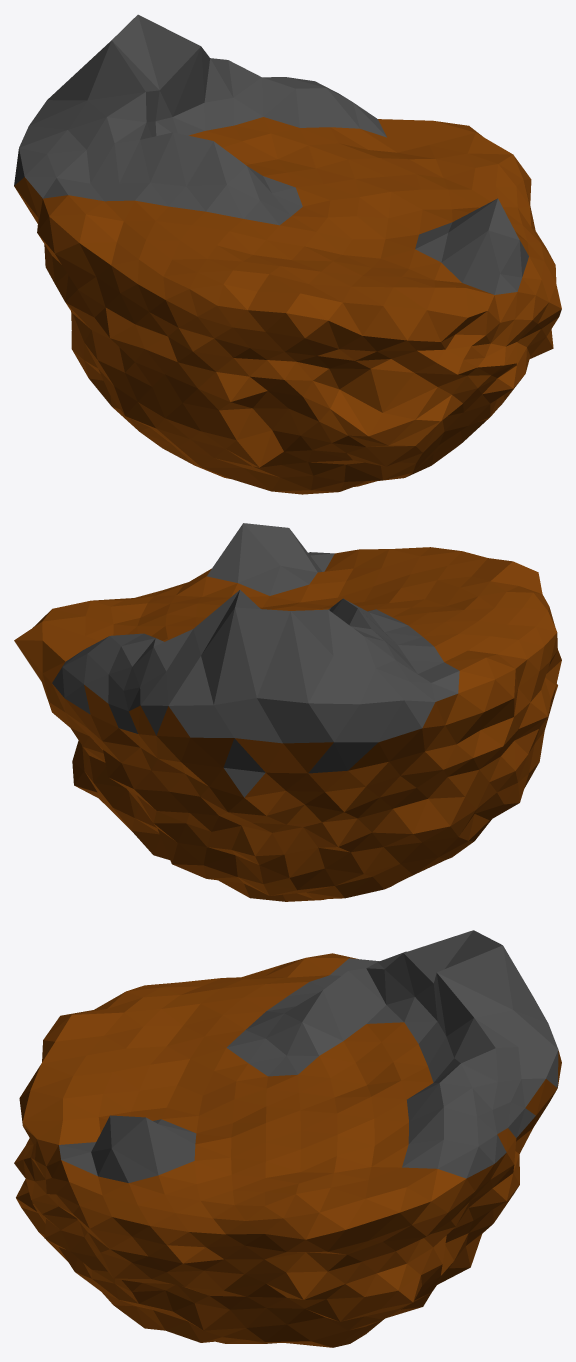
Rendered from island.fbx.
The picture shows the model from 3 angles, top to bottom: view 1: azimuth 30°, elevation 25°; view 2: azimuth 150°, elevation 25°; view 3: azimuth 270°, elevation 25°; orthographic projection. The views are drawn at different scales.
Parts seen in each view (by area): view 1: Icosphere; view 2: Icosphere; view 3: Icosphere.
Boxes of the visible parts, <box> form: Icosphere: <box>14,14,561,494</box>; Icosphere: <box>14,523,561,901</box>; Icosphere: <box>14,930,561,1347</box>.
Bounding box in the file's own units: 43281 × 32420 × 44613.
